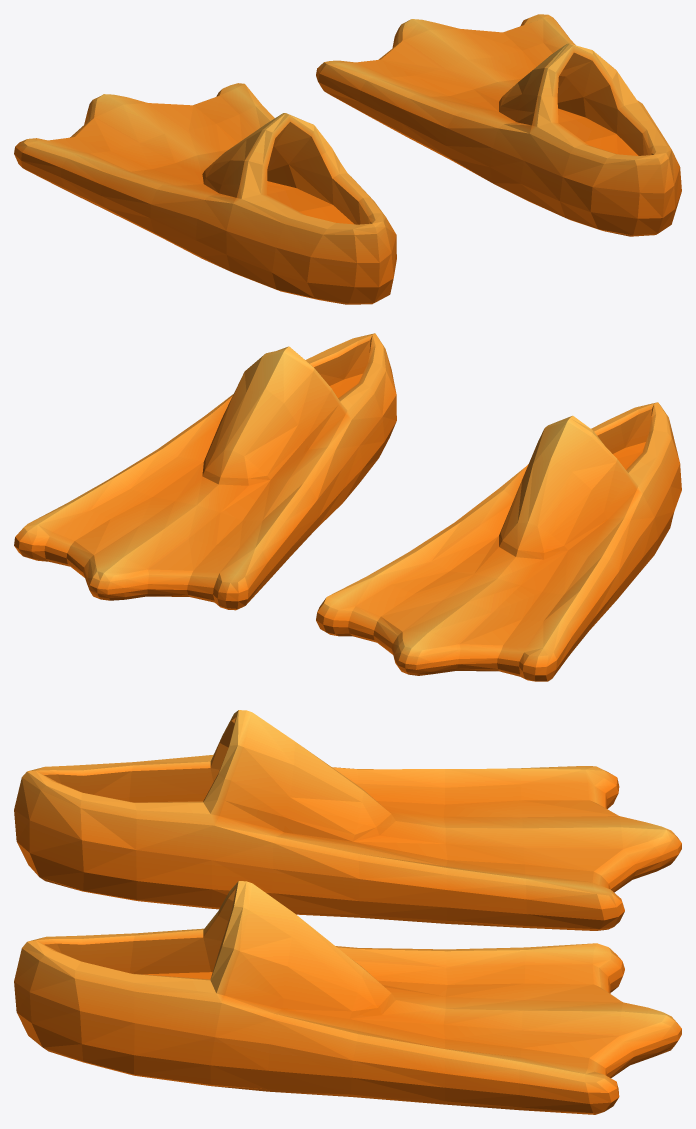
Rendered from CharSkyKid_Feet_SunlightDuckFlippers.glb.
The picture shows the model from 3 angles, top to bottom: view 1: azimuth 30°, elevation 25°; view 2: azimuth 150°, elevation 25°; view 3: azimuth 270°, elevation 25°; orthographic projection. The views are drawn at different scales.
Visible parts, largest first — view 1: CharSkyKid_Feet_SunlightDuckFlippers; view 2: CharSkyKid_Feet_SunlightDuckFlippers; view 3: CharSkyKid_Feet_SunlightDuckFlippers.
Boxes of the visible parts, left/top/right/bottom form: CharSkyKid_Feet_SunlightDuckFlippers: left=14, top=14, right=681, bottom=304; CharSkyKid_Feet_SunlightDuckFlippers: left=14, top=333, right=681, bottom=681; CharSkyKid_Feet_SunlightDuckFlippers: left=14, top=710, right=681, bottom=1114.
Size of the model in its own units: 3.45 by 0.8245 by 3.02.
1 material, 1 textured.
